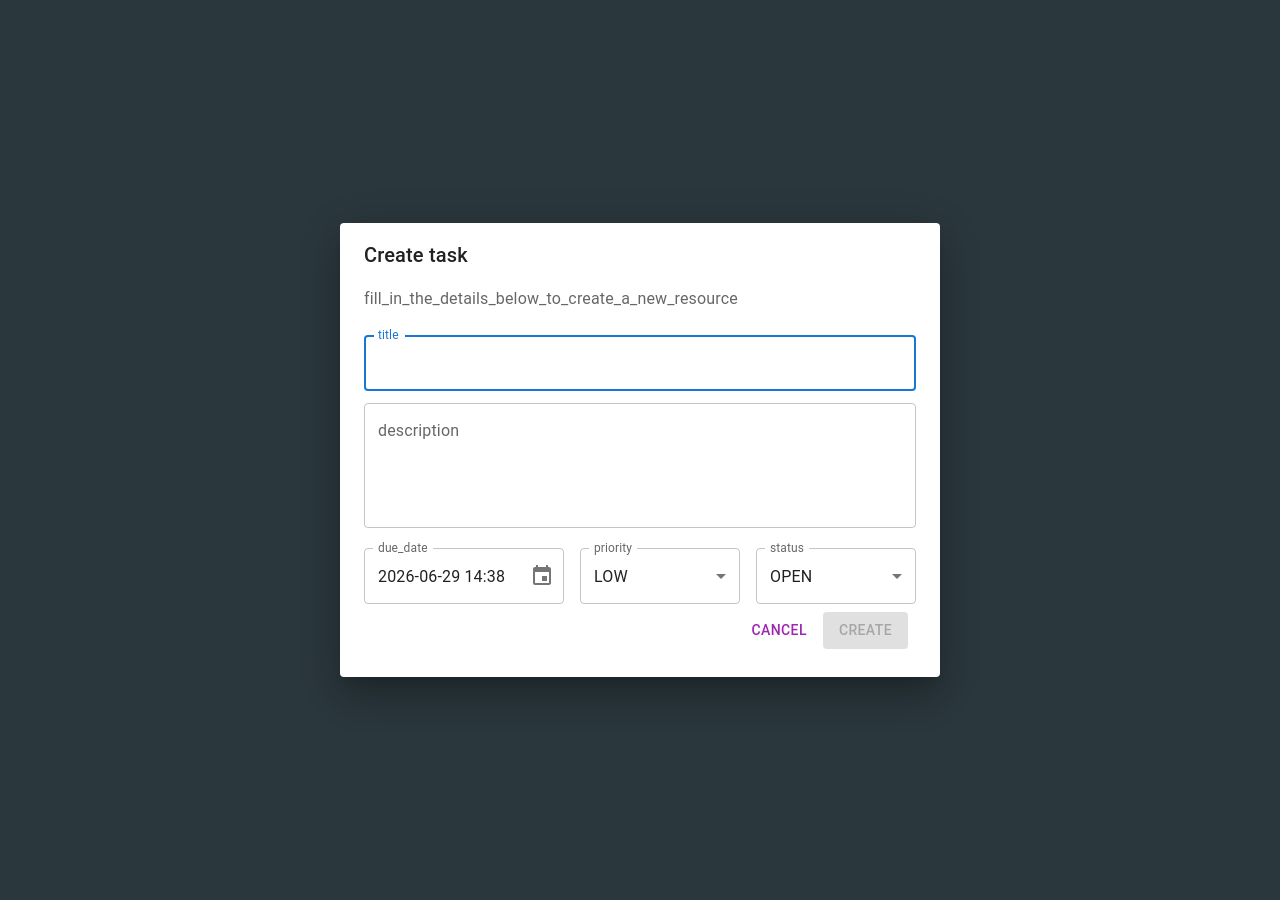
<TaskDialog /> › updates the status selection
This screenshot has width=1280, height=900.
Press the mouse on the dropdown labelled "OPEN" at (791,576), box [770,567,812,586]
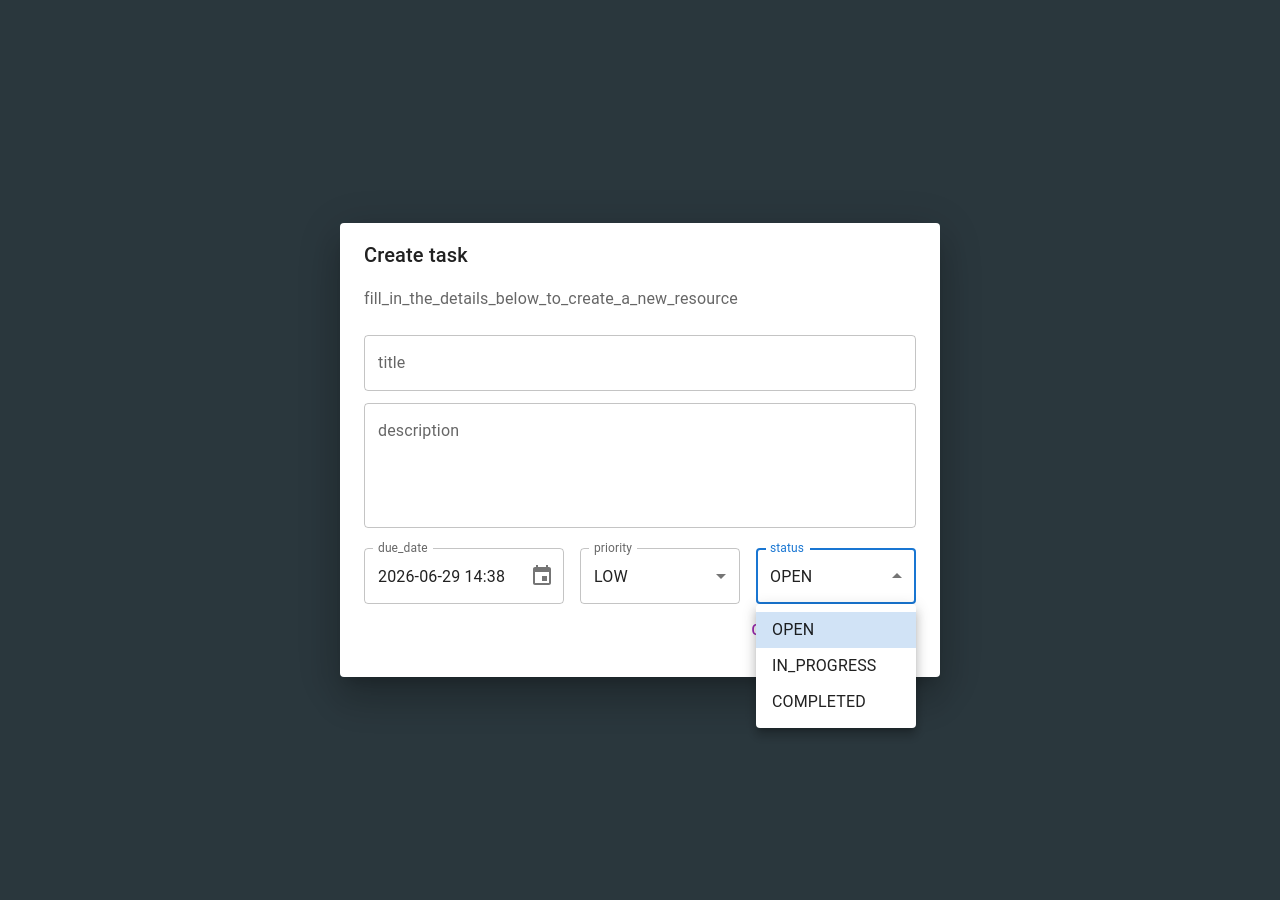
Click the option "IN_PROGRESS" at (824,666), box [772,656,876,675]
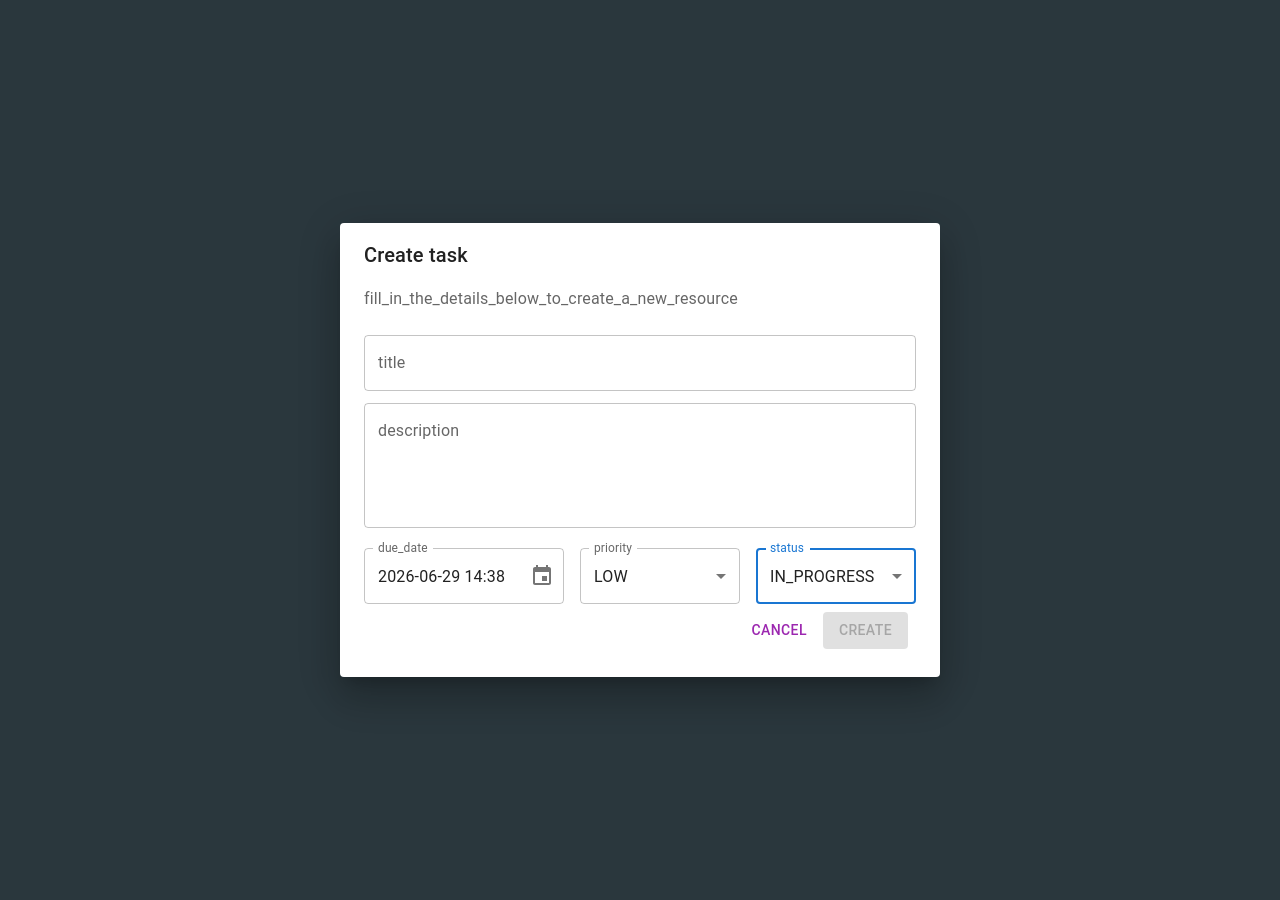
Expected: the dropdown labelled "IN_PROGRESS" is shown, [770,567,874,586]
